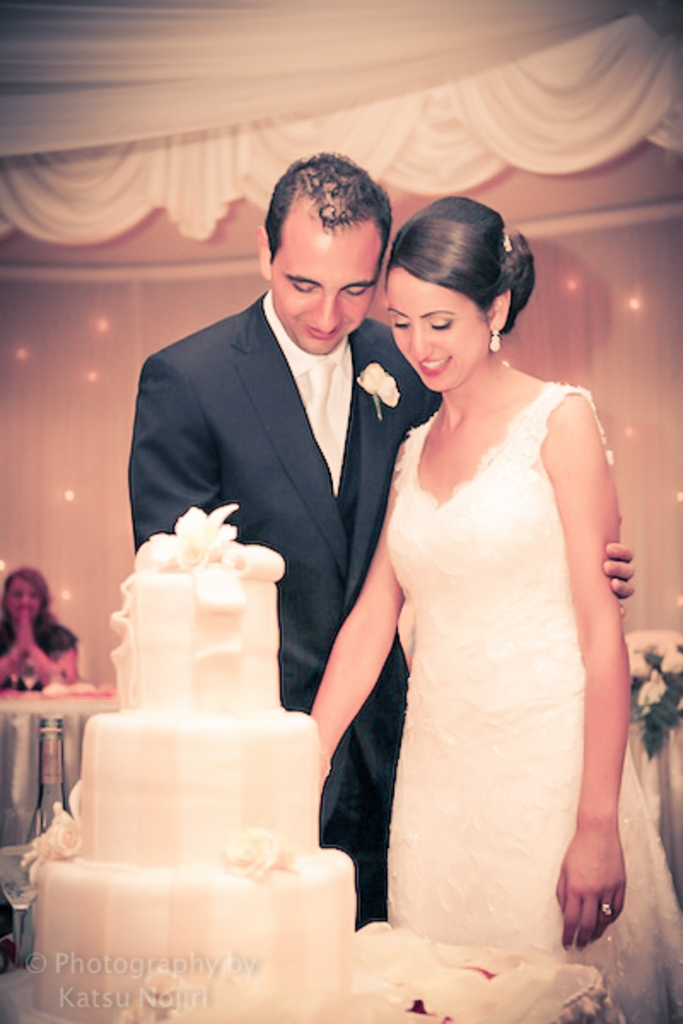cake: (17, 502, 359, 1022)
